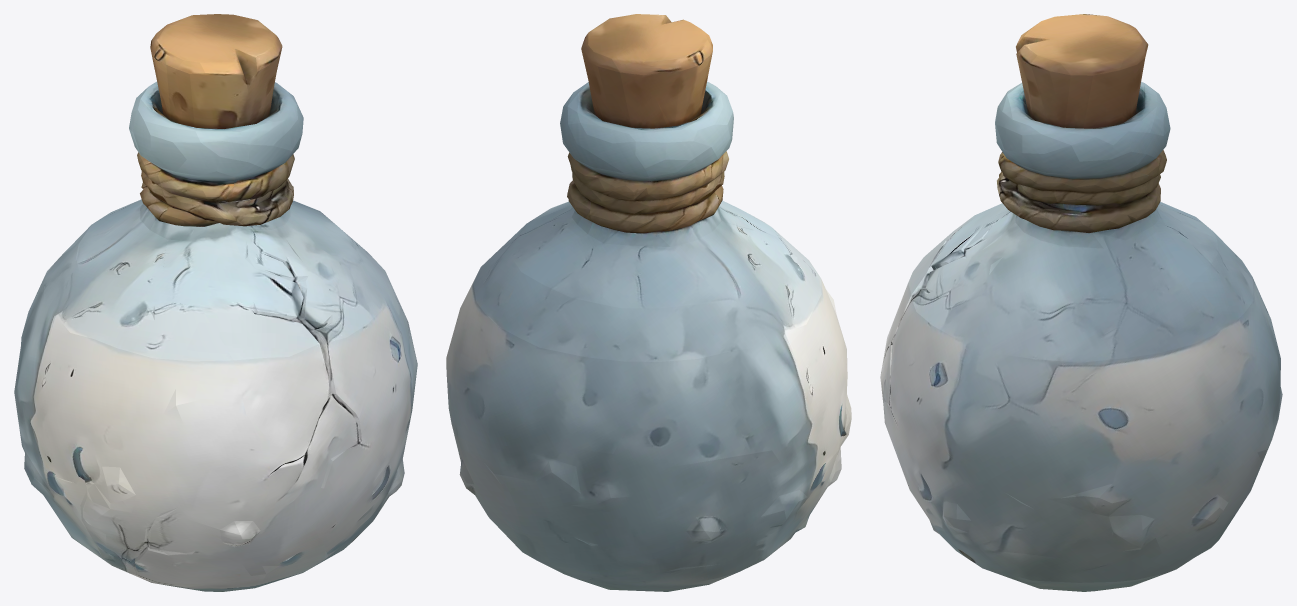
The model's file is santan.glb.
3 views of the same model, side by side, from view 1: azimuth 30°, elevation 25°; view 2: azimuth 150°, elevation 25°; view 3: azimuth 270°, elevation 25° (orthographic).
Parts seen in each view (by area): view 1: model; view 2: model; view 3: model.
Boxes of the visible parts, x1,y1,x2,y2 form: model: (14,14,417,591); model: (446,14,851,591); model: (880,14,1282,591).
Bounding box in the file's own units: 1.31 × 1.88 × 1.3.
1 material, 1 textured.
